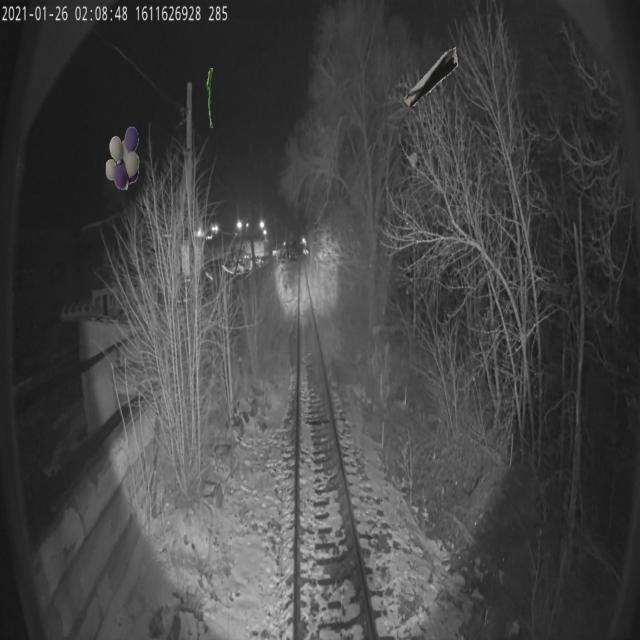balloon: (106, 126, 139, 190)
floating object: (404, 44, 461, 108), (206, 67, 214, 131)
